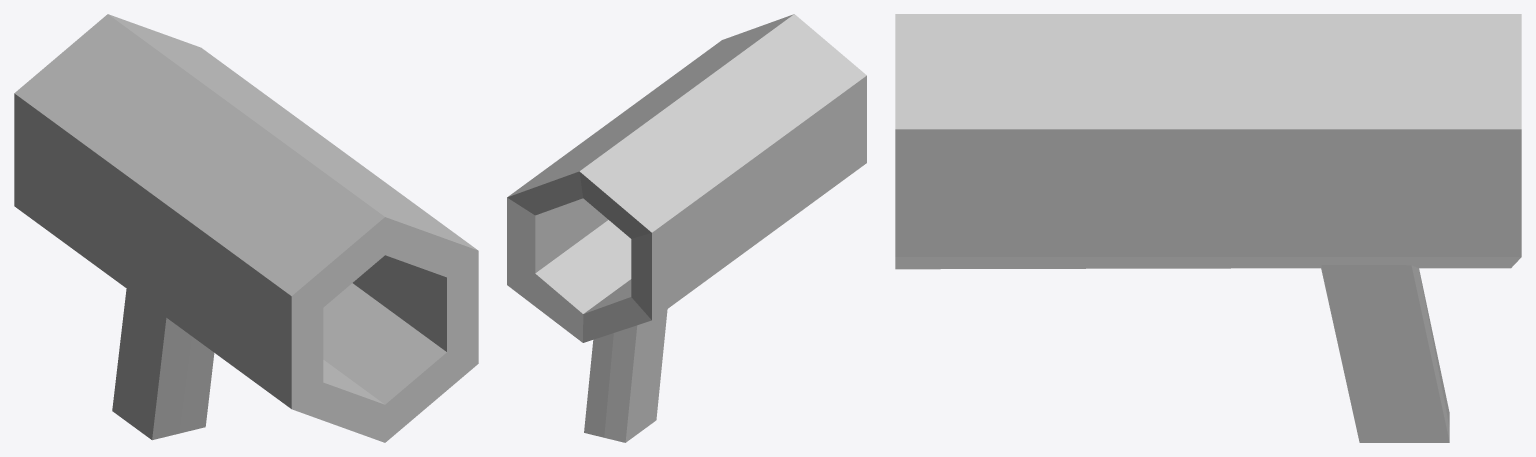
Rendered from GarlicLauncher.fbx.
The picture shows the model from 3 angles, left to right: view 1: azimuth 30°, elevation 25°; view 2: azimuth 150°, elevation 25°; view 3: azimuth 270°, elevation 25°; orthographic projection. The views are drawn at different scales.
Visible parts, largest first — view 1: Cylinder; view 2: Cylinder; view 3: Cylinder.
Part boxes in pixels (x1,y1,x2,y2): Cylinder: [14, 14, 478, 442]; Cylinder: [507, 14, 866, 442]; Cylinder: [895, 14, 1521, 442].
Size of the model in its own units: 301 by 564 by 772.
Materials: 1 (1 with a texture image).
